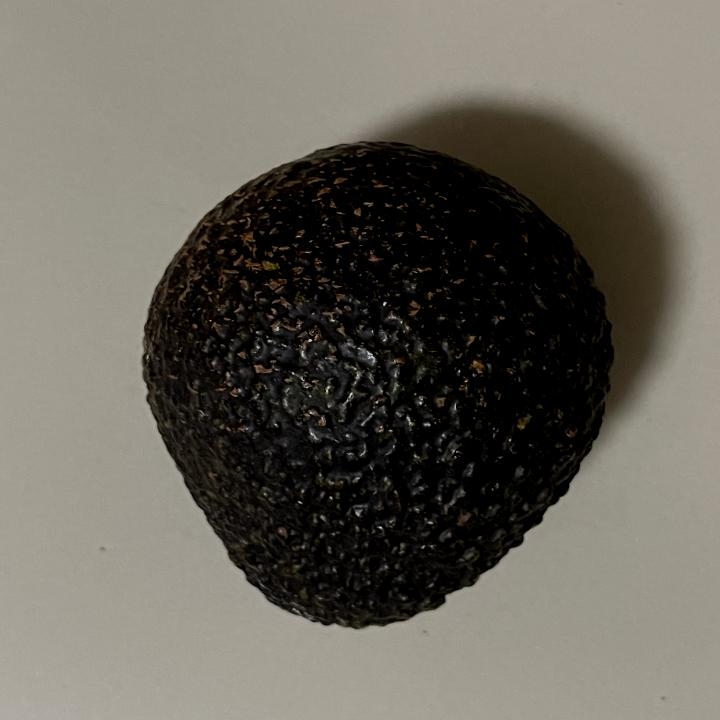Level1: (117, 127, 636, 644)
